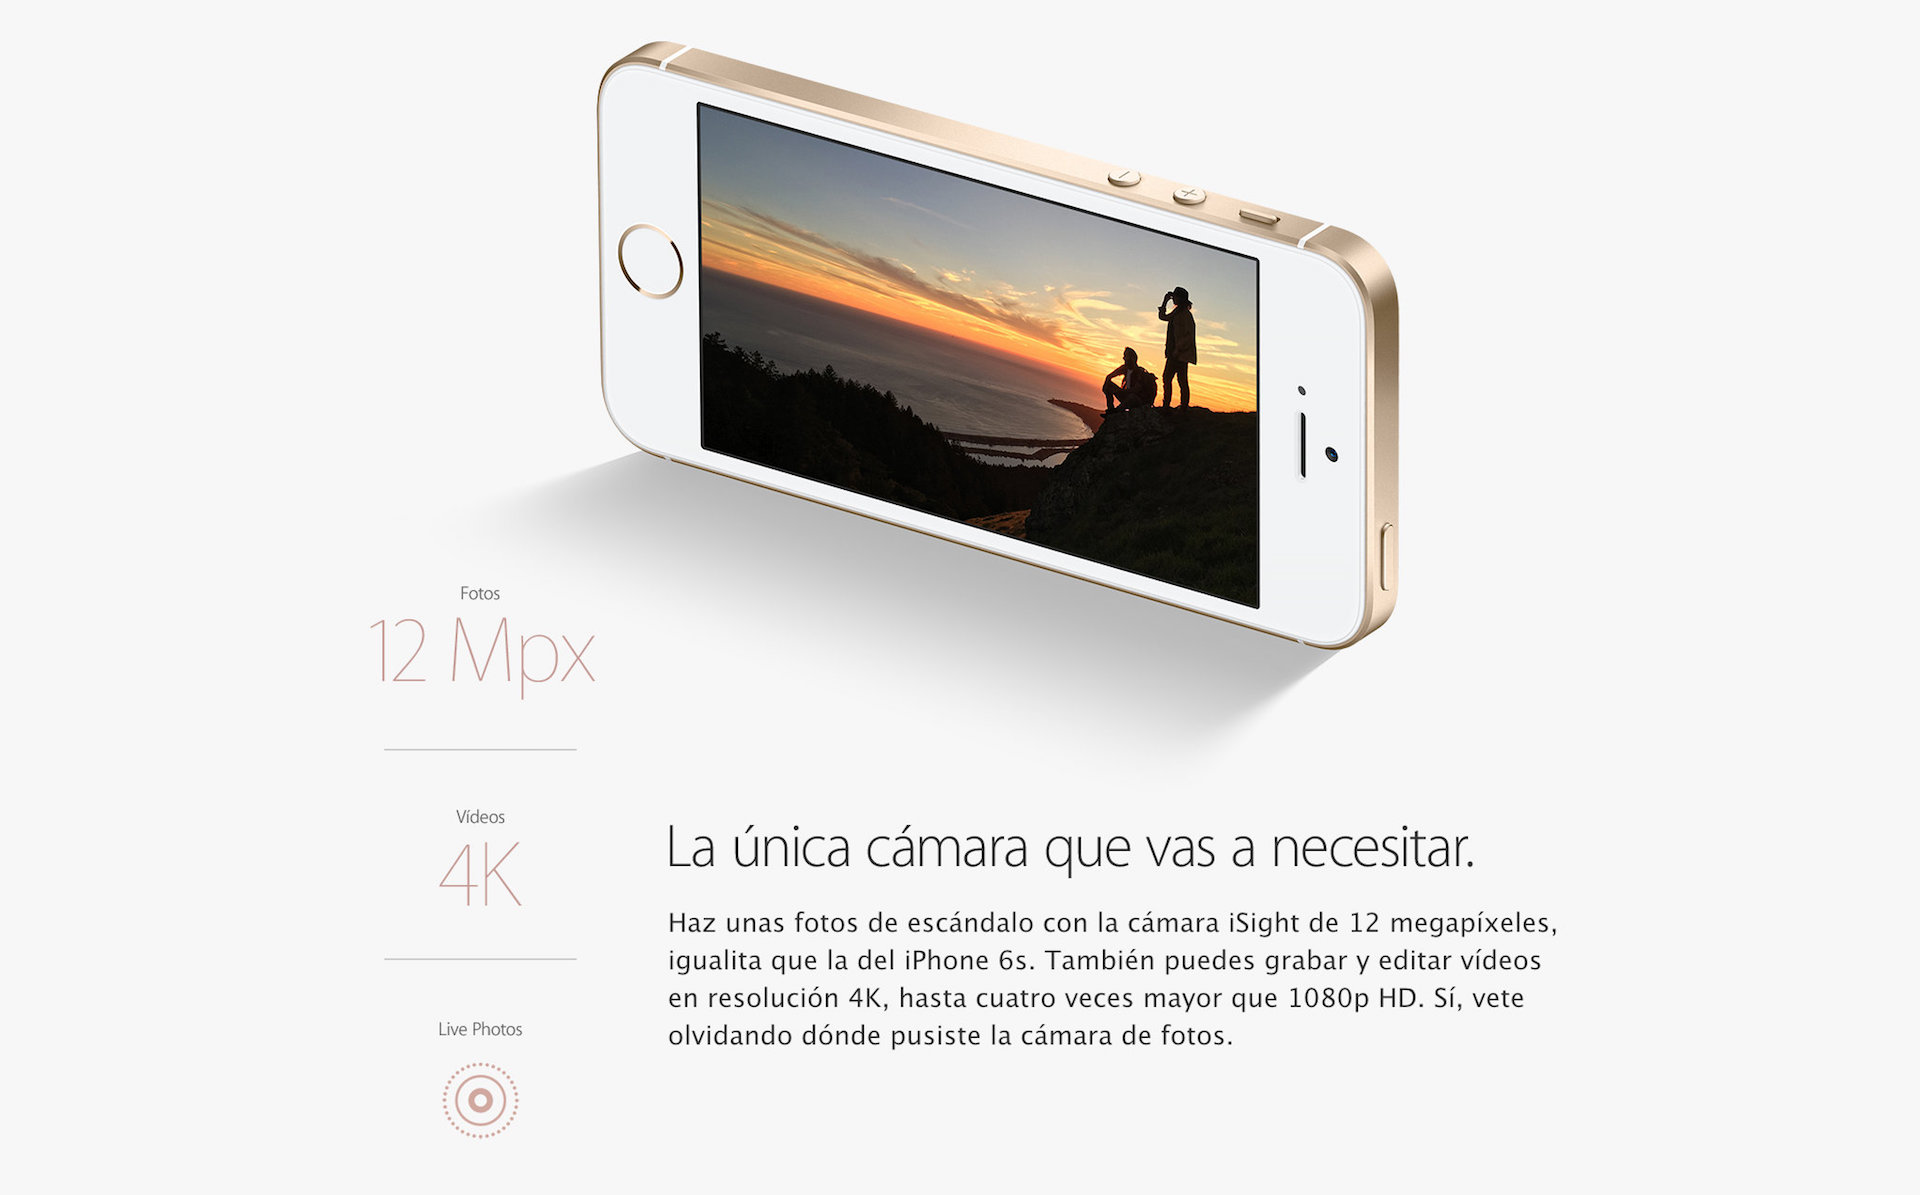smartphone: (592, 37, 1402, 651)
